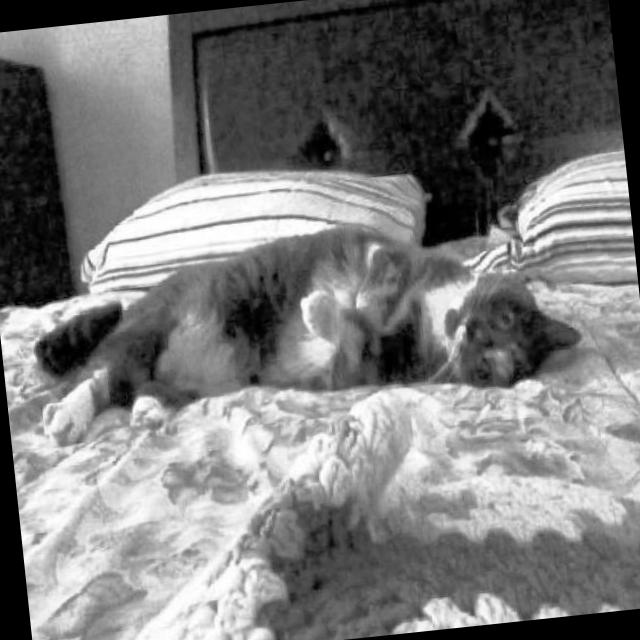Cat: (16, 192, 594, 458)
